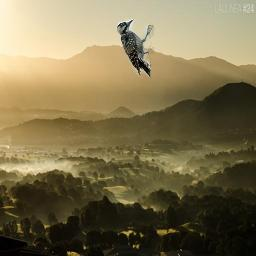Woodpecker: (116, 19, 154, 79)
